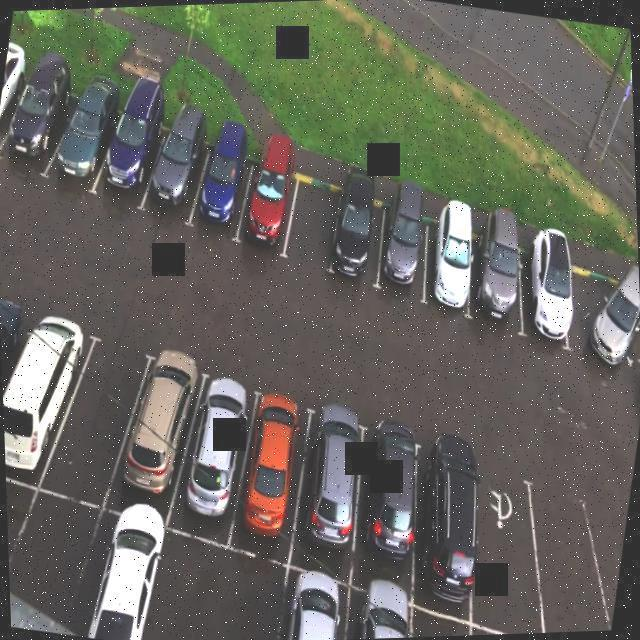space-empty: (44, 338, 150, 521), (455, 452, 559, 635), (518, 479, 627, 634), (6, 479, 103, 633), (272, 157, 354, 302), (5, 466, 26, 587), (400, 607, 474, 638)
space-occupied: (392, 426, 500, 618), (283, 393, 380, 584), (342, 419, 434, 601), (0, 303, 88, 492), (112, 351, 204, 526), (228, 380, 317, 560), (76, 498, 177, 640), (179, 380, 262, 549), (228, 126, 309, 276), (456, 212, 543, 351), (364, 182, 444, 315), (50, 78, 122, 213), (410, 201, 484, 330), (553, 260, 631, 382), (146, 104, 214, 241), (100, 89, 168, 222), (4, 58, 73, 188), (188, 123, 261, 245), (321, 167, 391, 294), (514, 237, 583, 360), (267, 569, 358, 640), (0, 279, 24, 475), (339, 582, 420, 640), (0, 48, 26, 177)
